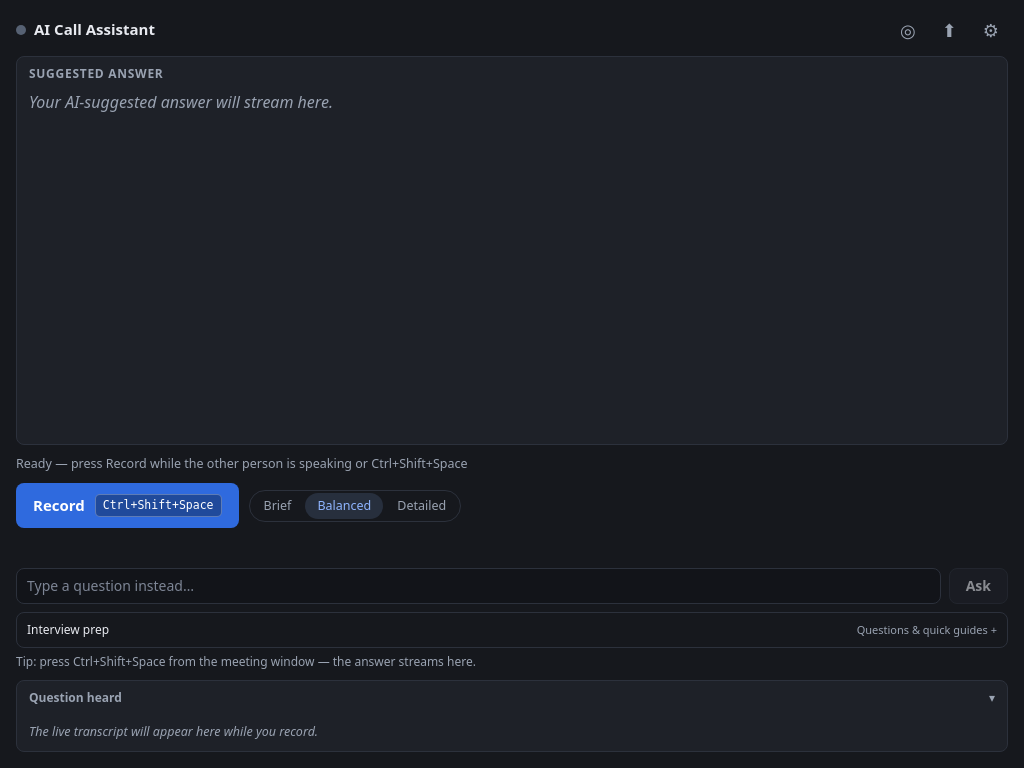
Test: typed ask › keeps the input and shows the error when the ask is rejected
Check: the button named "Settings" is enabled, box 974,14 -> 1008,46
Type "Tell me about yourself" into the field labelled "Type a question" at (478, 586), box 16,568 -> 941,604
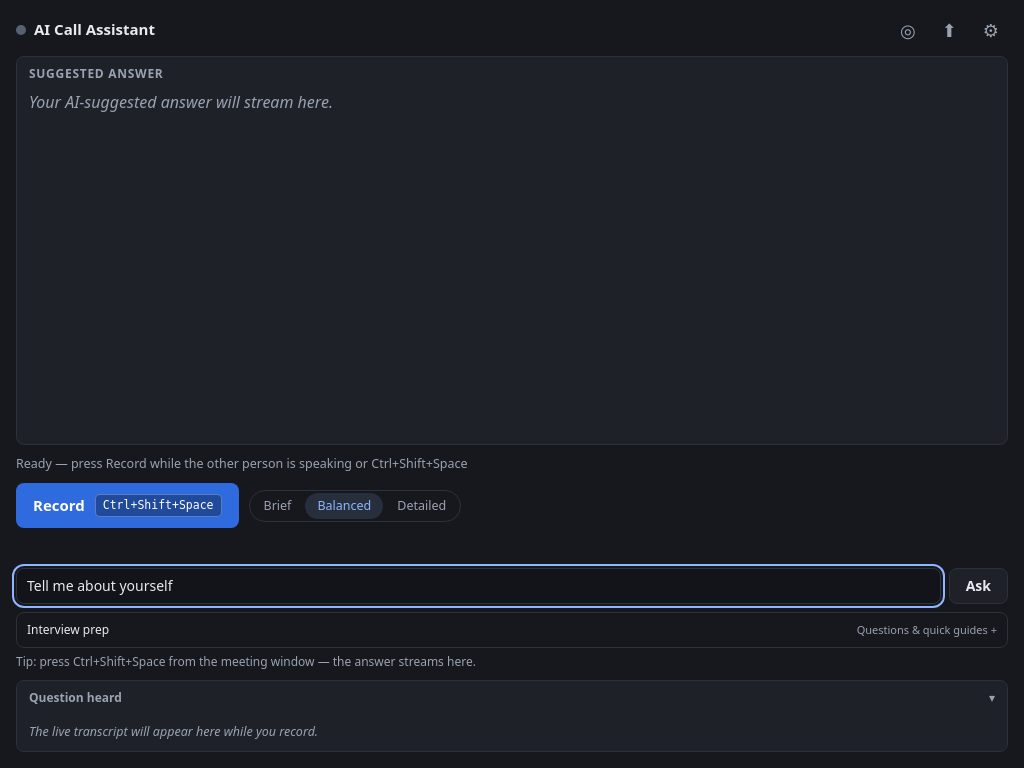
Click the button "Ask" at (978, 586), box 949,568 -> 1008,604
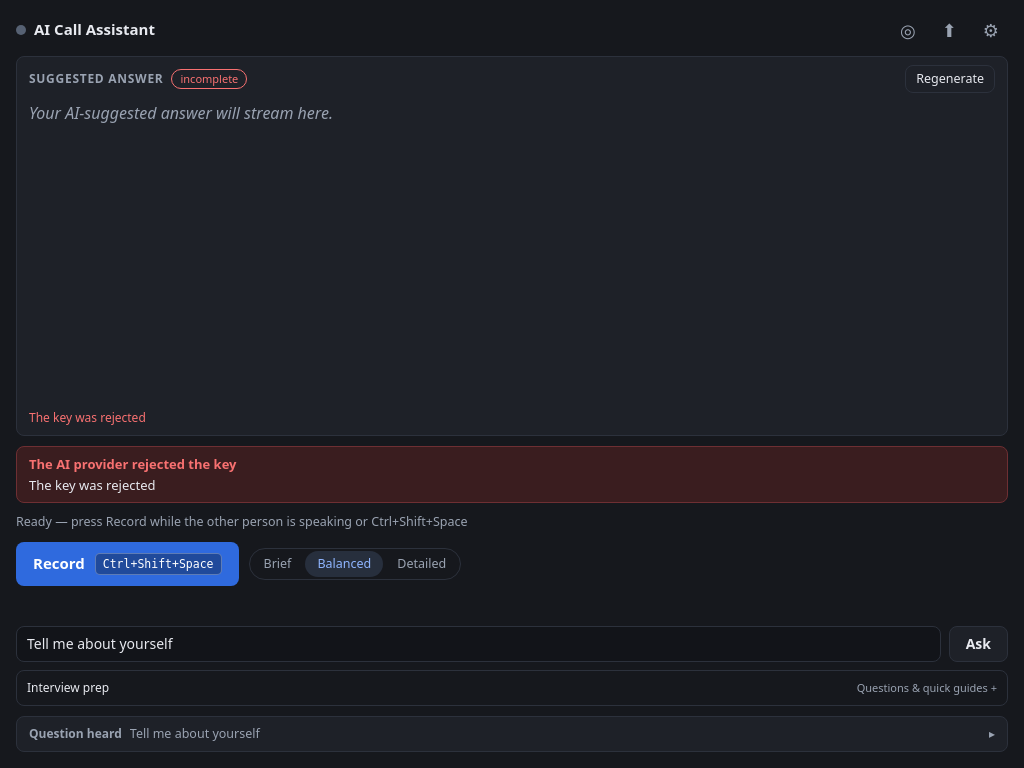
Check: the message "The AI provider rejected the key The key was rejected" is shown, box 16,446 -> 1008,503
